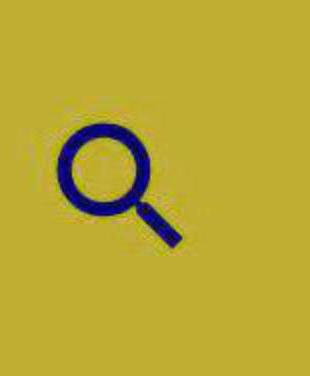ImgButton: (1, 1, 309, 375)
